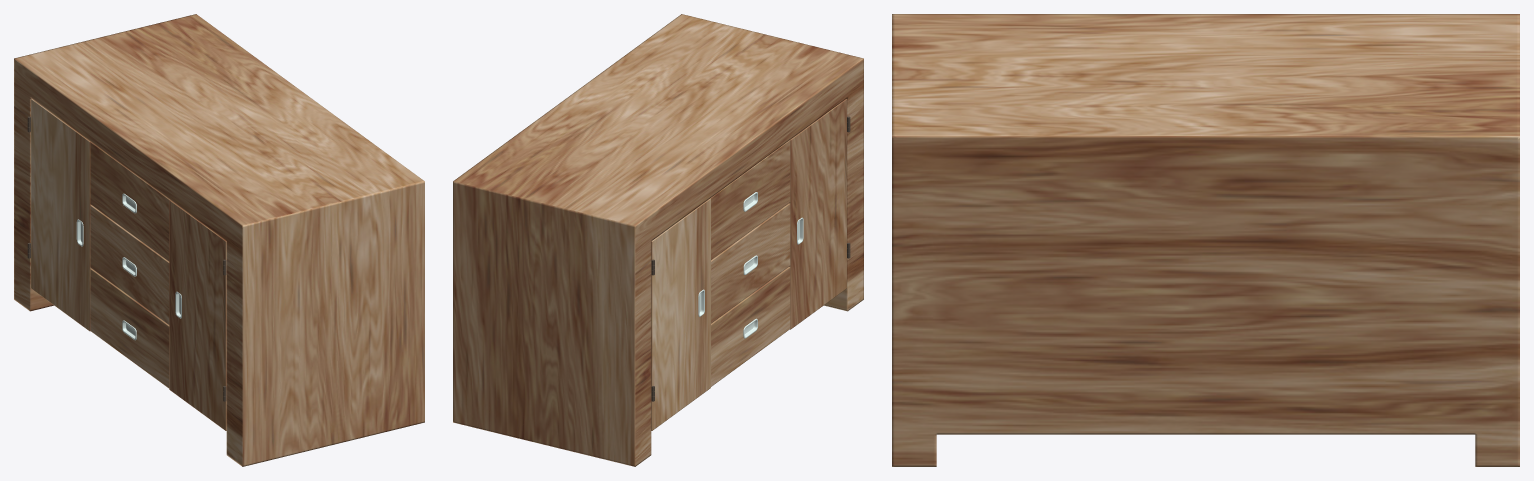
The model's file is drawer_02.obj.
The picture shows the model from 3 angles, left to right: view 1: azimuth 30°, elevation 25°; view 2: azimuth 150°, elevation 25°; view 3: azimuth 270°, elevation 25°; orthographic projection. The views are drawn at different scales.
Parts seen in each view (by area): view 1: drawer_02; view 2: drawer_02; view 3: drawer_02.
Boxes of the visible parts, bbox=[...] form: drawer_02: bbox=[14, 14, 424, 466]; drawer_02: bbox=[453, 14, 863, 466]; drawer_02: bbox=[892, 14, 1519, 466].
Size of the model in its own units: 2.83 by 3.52 by 6.05.
